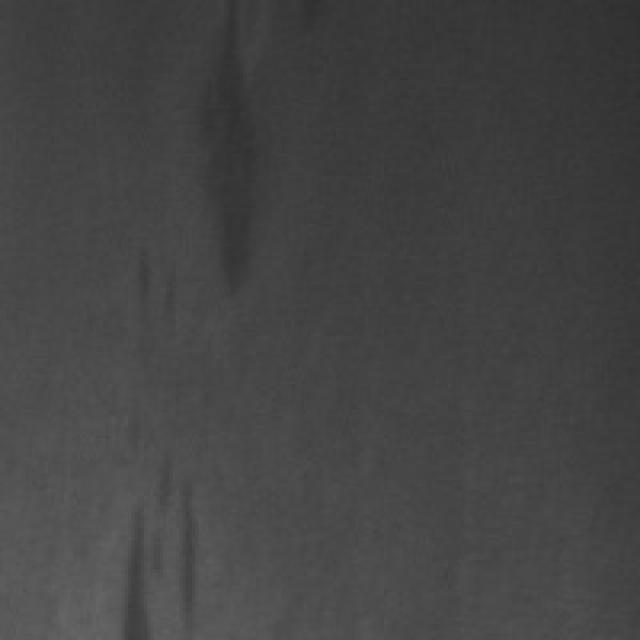inclusion: (167, 0, 276, 304), (109, 422, 208, 634)
